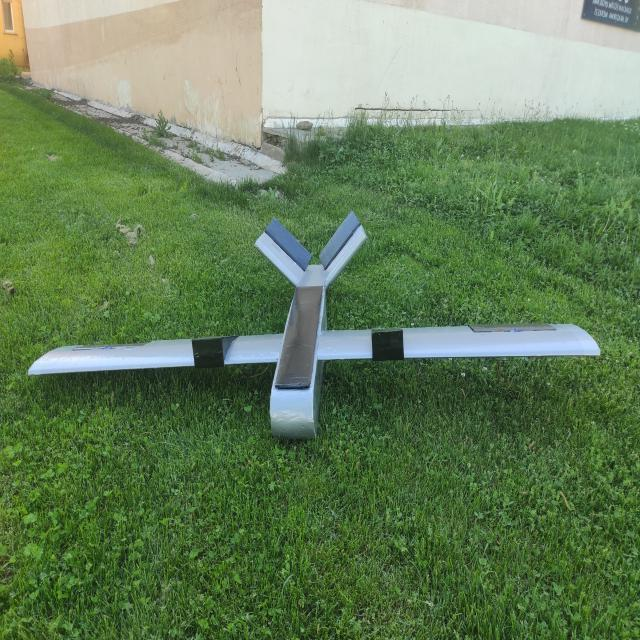iha: (33, 217, 605, 432), (576, 0, 635, 27)
